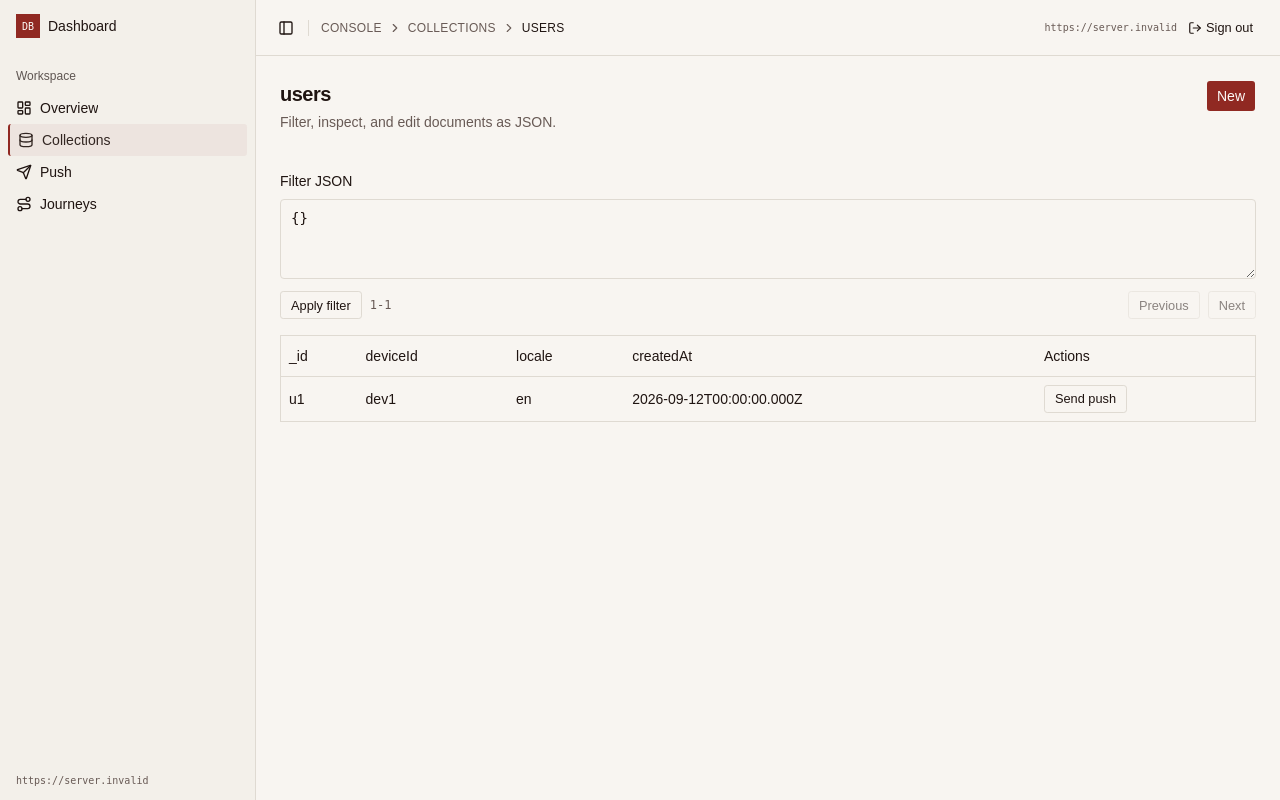
Test: operator dashboard › keeps the delete dialog open when delete fails
Click the text "dev1" at (381, 399), box [366,391,396,407]
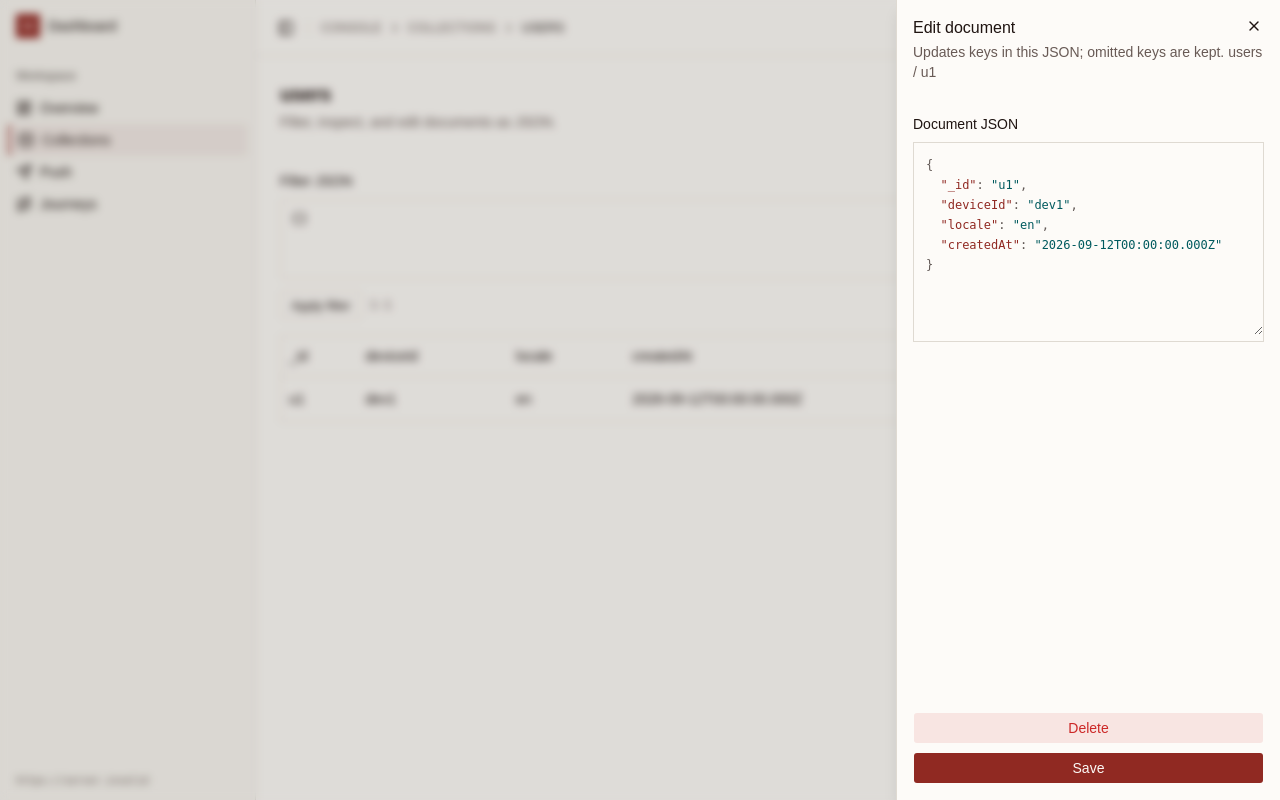
Click the button "Delete" at (1088, 728), box [913,712,1264,744]
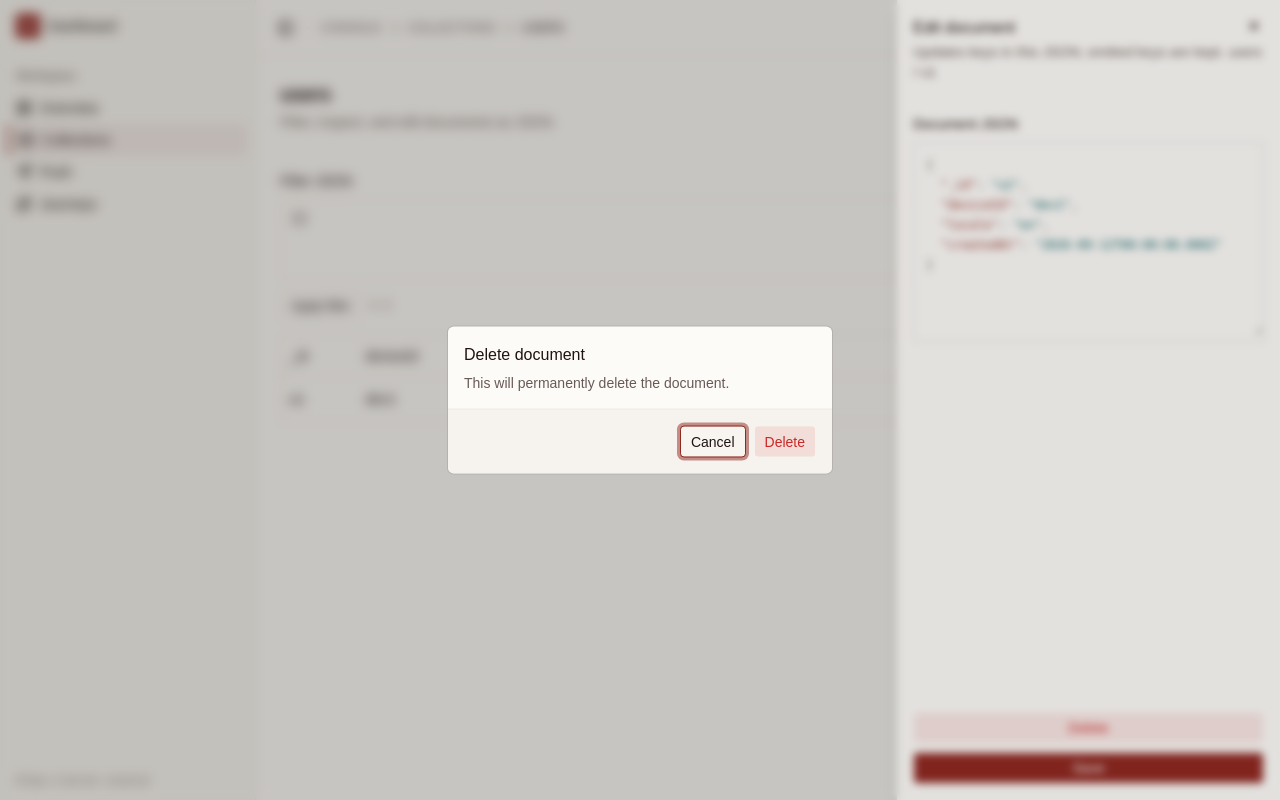
Click the button "Delete" at (785, 442), box [754,426,816,458]
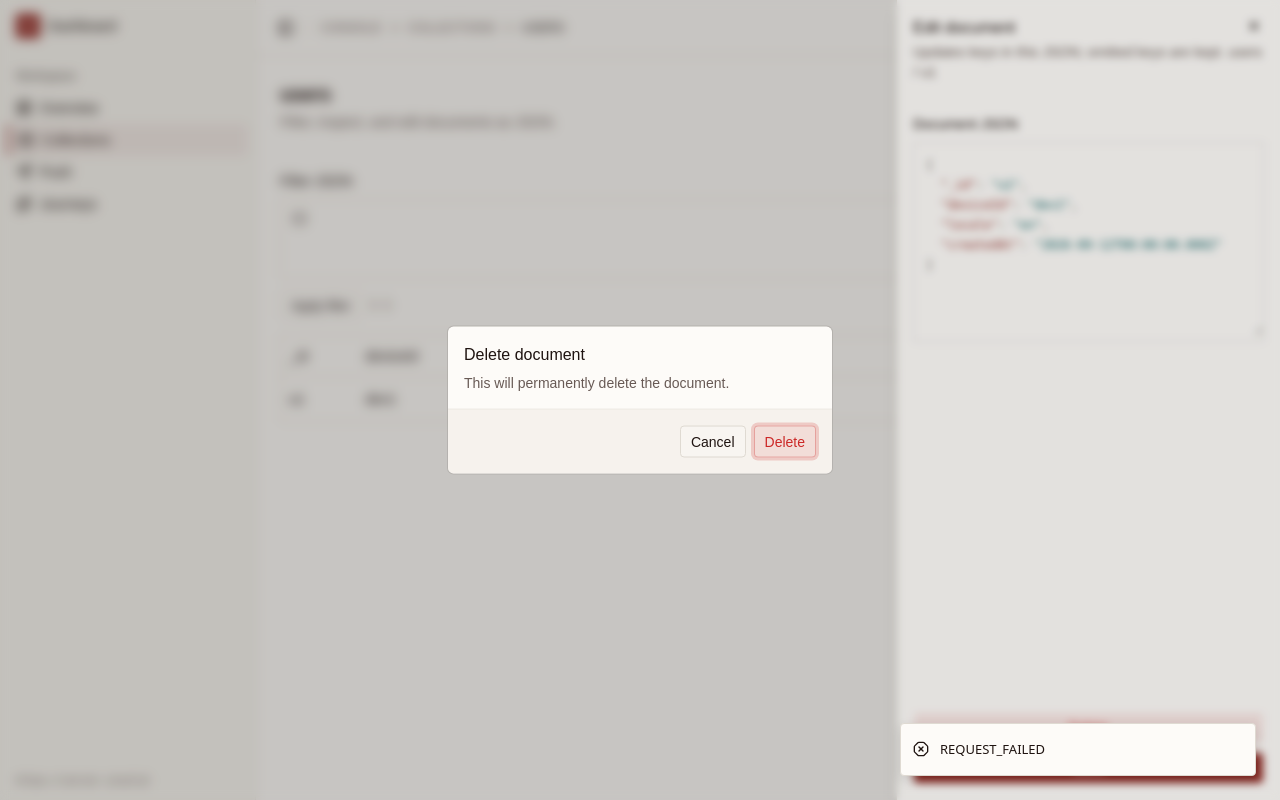
Check: the dialog that starts with "Delete document" is shown, box [448,326,832,474]
Check: the text "REQUEST_FAILED" is shown, box [940,740,1045,759]
